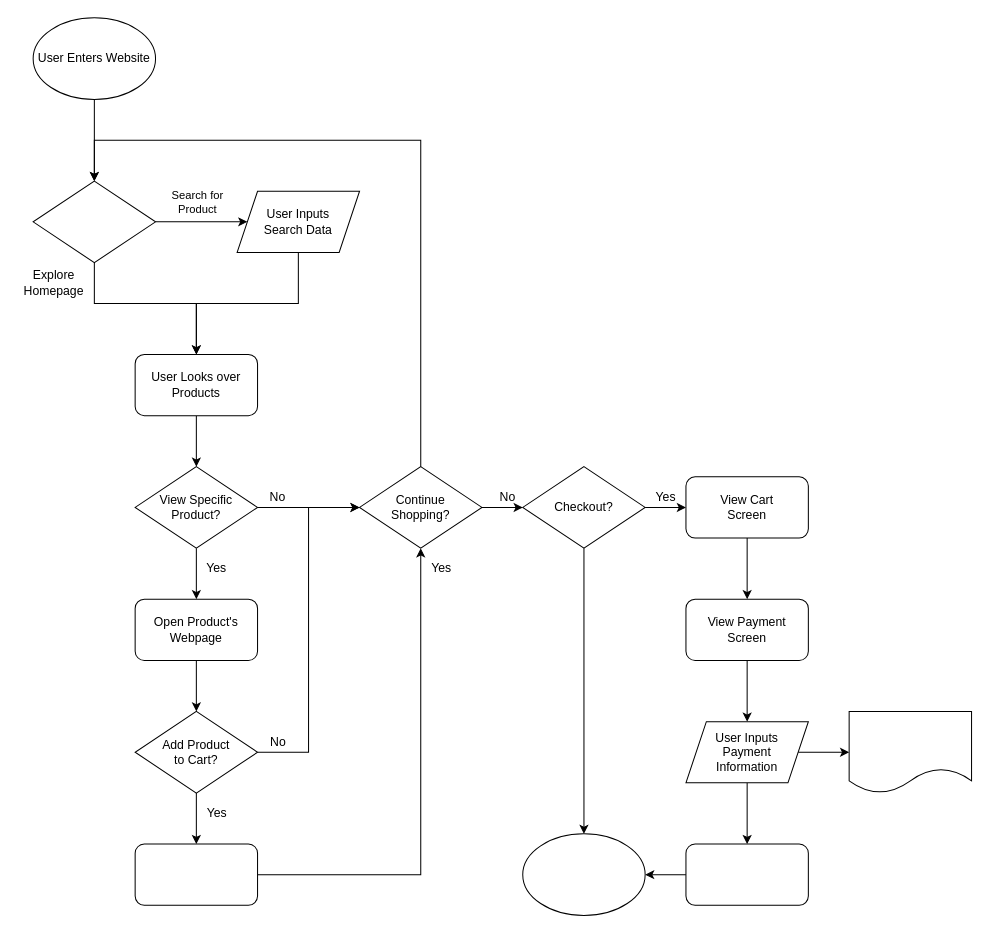
This 989x933 diagram has some shape labels left out. The centre of each missing label's shape, as x and y in pixels:
"Added to Cart Confirmation" belongs at (x=196, y=874).
"Order Confirmation Screen" belongs at (x=746, y=874).
"Search or Explore?" belongs at (x=94, y=221).
"User Leaves Website" belongs at (x=583, y=874).
"User Recieves Email" belongs at (x=910, y=751).
